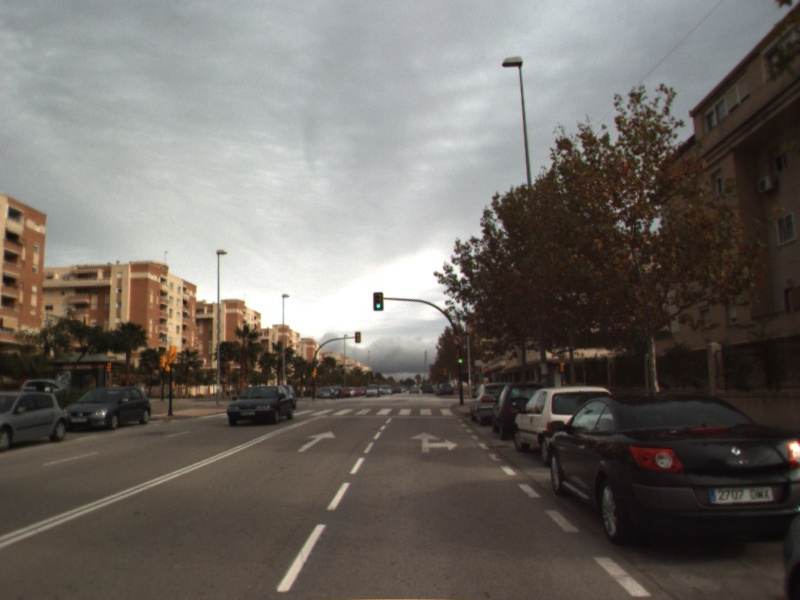STRAIGHT: (295, 429, 338, 454)
STRAIGHT_RIGHT: (409, 430, 460, 455)
